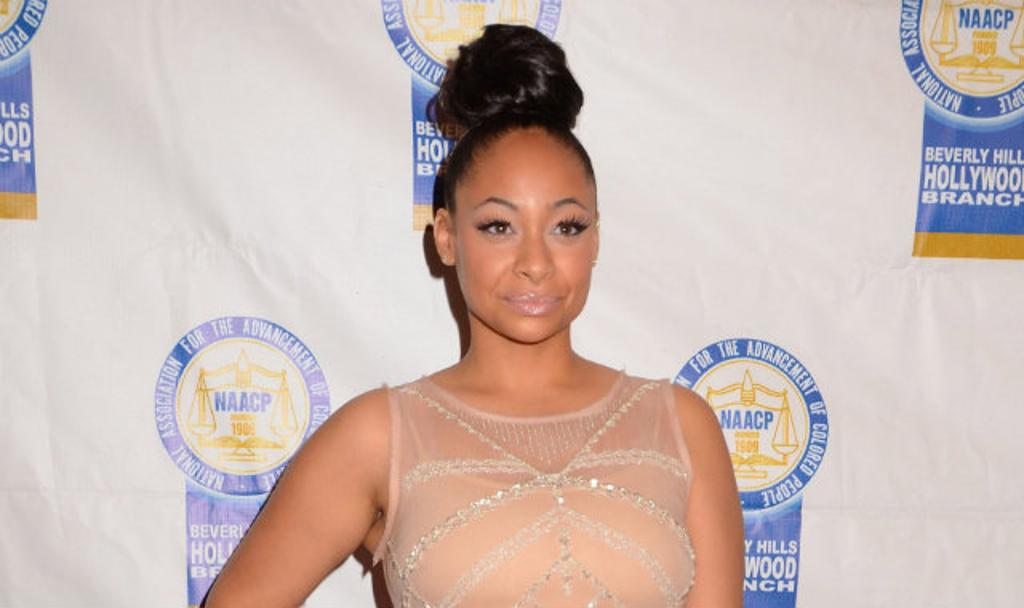face: (458, 134, 596, 340)
